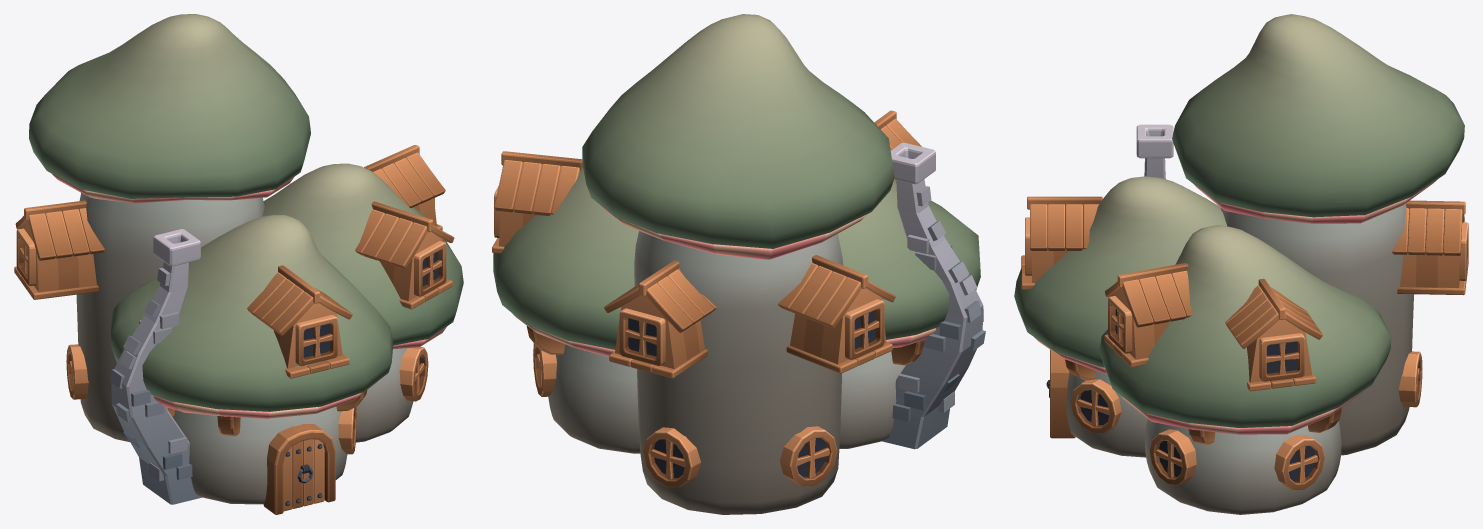
The model's file is mt_house17.fbx.
3 views of the same model, side by side, from view 1: azimuth 30°, elevation 25°; view 2: azimuth 150°, elevation 25°; view 3: azimuth 270°, elevation 25° (orthographic). The views are drawn at different scales.
Visible parts, largest first — view 1: h17; view 2: h17; view 3: h17.
Part boxes in pixels (x1,y1,x2,y2): h17: (14,14,463,514); h17: (492,14,985,514); h17: (1014,14,1468,514).
Bounding box in the file's own units: 1041 × 1056 × 1068.
